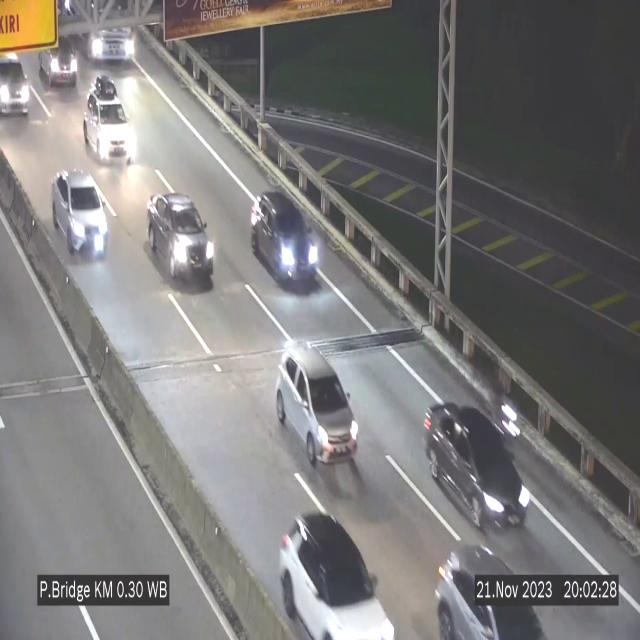Car: (280, 514, 394, 640), (424, 404, 532, 534), (431, 540, 551, 640), (276, 338, 358, 466), (248, 191, 316, 288), (147, 193, 214, 286), (80, 70, 138, 171), (53, 171, 107, 256), (35, 25, 86, 93), (0, 51, 34, 129)
Motorcycle: (498, 390, 528, 438)
Truck: (81, 0, 148, 66)
